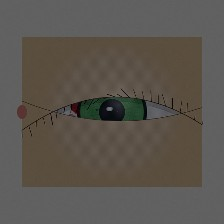hemorrhage_spot: (59, 75, 140, 139)
